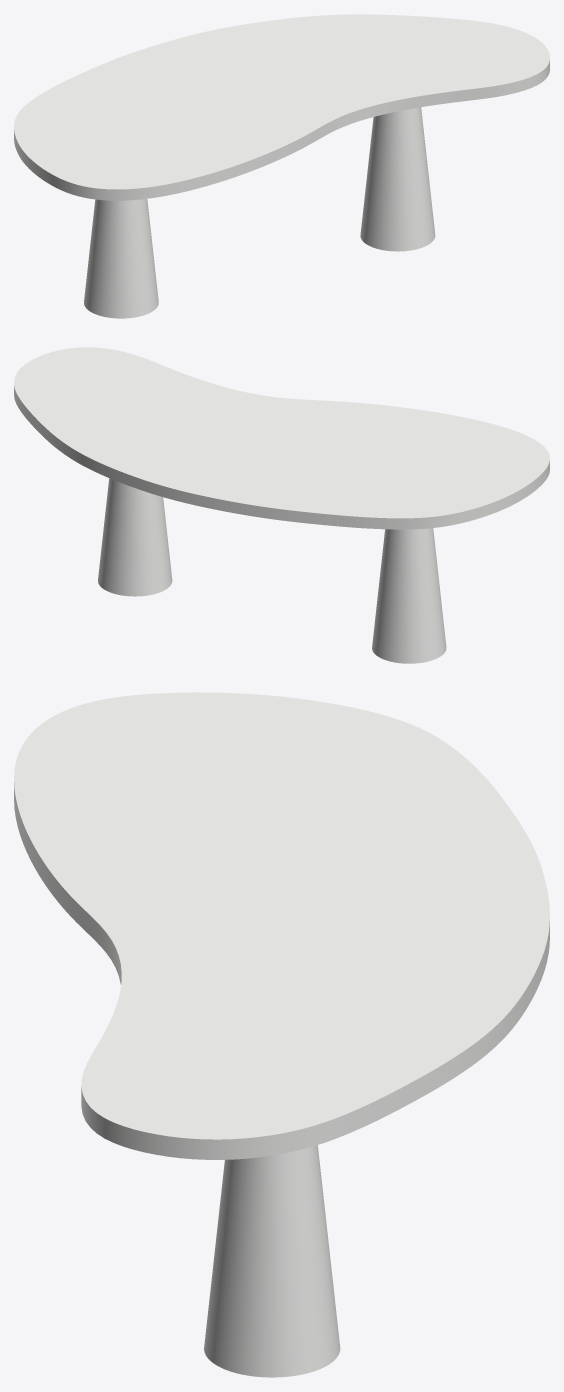
File: purewhite_leaf1_standard_pebble.glb
3 views of the same model, one above another, from view 1: azimuth 30°, elevation 25°; view 2: azimuth 150°, elevation 25°; view 3: azimuth 270°, elevation 25° (orthographic). The views are drawn at different scales.
Visible parts, largest first — view 1: standard_leaf1, pebble; view 2: standard_leaf1, pebble; view 3: standard_leaf1, pebble.
Part boxes in pixels (bbox=[...]): standard_leaf1: bbox=[14, 14, 549, 200]; pebble: bbox=[84, 107, 435, 318]; standard_leaf1: bbox=[14, 347, 549, 529]; pebble: bbox=[98, 478, 446, 663]; standard_leaf1: bbox=[14, 692, 549, 1159]; pebble: bbox=[204, 1145, 340, 1377].
Size of the model in its own units: 7.5 by 2.51 by 3.8.
1 material, 1 textured.
